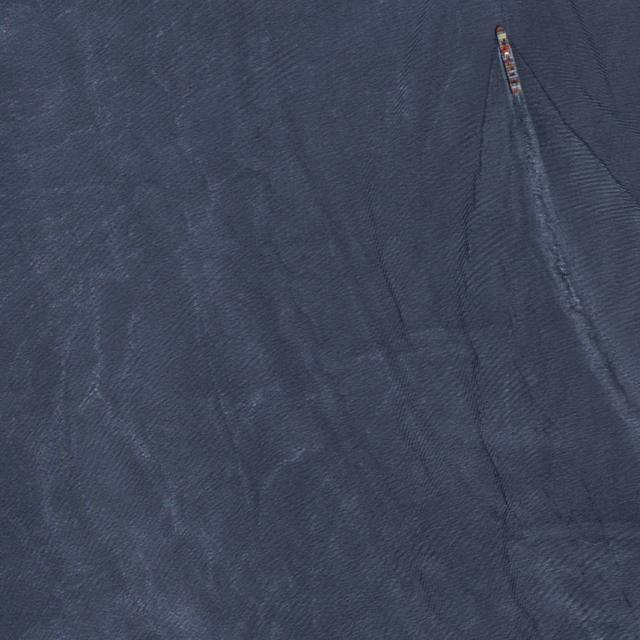Container Ship: (494, 25, 522, 97)
